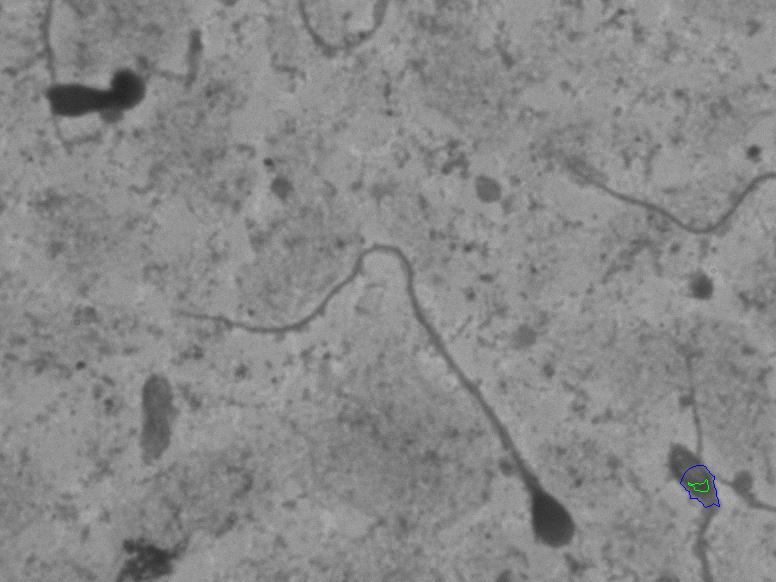Abnormal: (159, 232, 587, 554)
